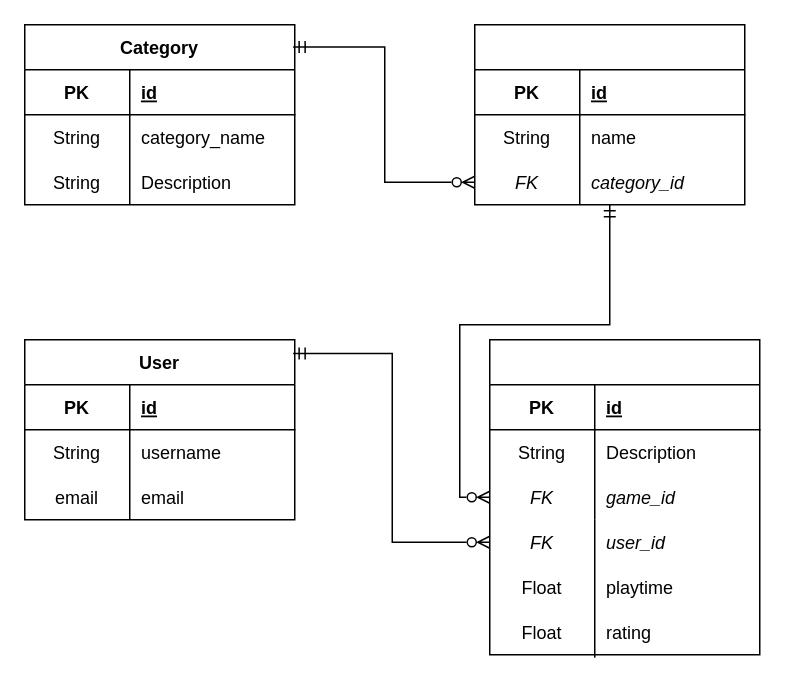
The diagram is 785 pixels wide and 683 high, and some of its shapes have lost their labels. Here are the shapes that lost their labels. From the top down, the box of each, then its label:
(473, 23, 745, 205): Game
(488, 338, 760, 655): Review
